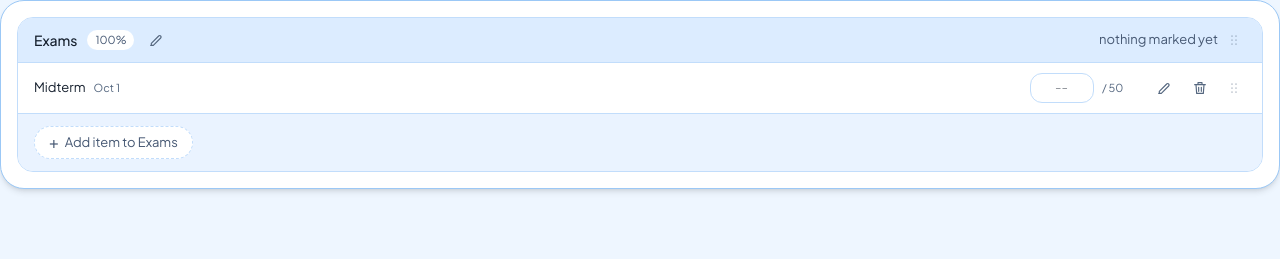
Test case: the grade table, fixing a mistake › opens an edit row from the pencil
The width and height of the screenshot is (1280, 259).
Click the button named "Edit Midterm" at coordinates (1164, 88), box top-left (1150, 74), bottom-right (1178, 102)
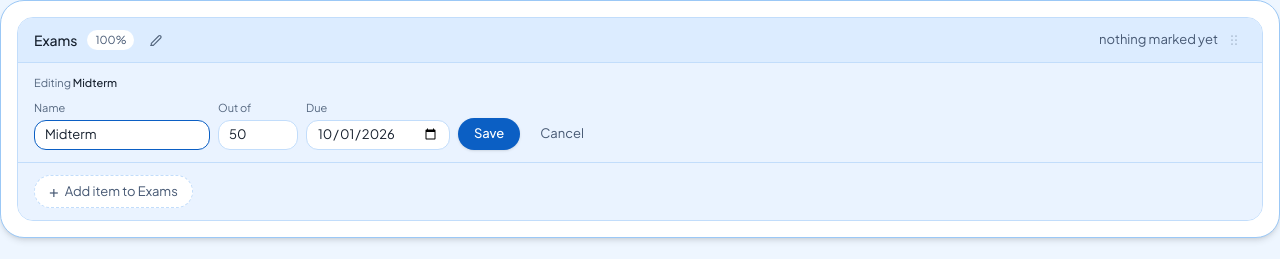
Result: the field named "Item name" holds "Midterm" at top-left (34, 120), bottom-right (210, 150)
Result: the number field labelled "Out of" holds "50" at top-left (218, 120), bottom-right (298, 150)
Result: the date field named "Due date" holds "2026-10-01" at top-left (306, 120), bottom-right (450, 150)
